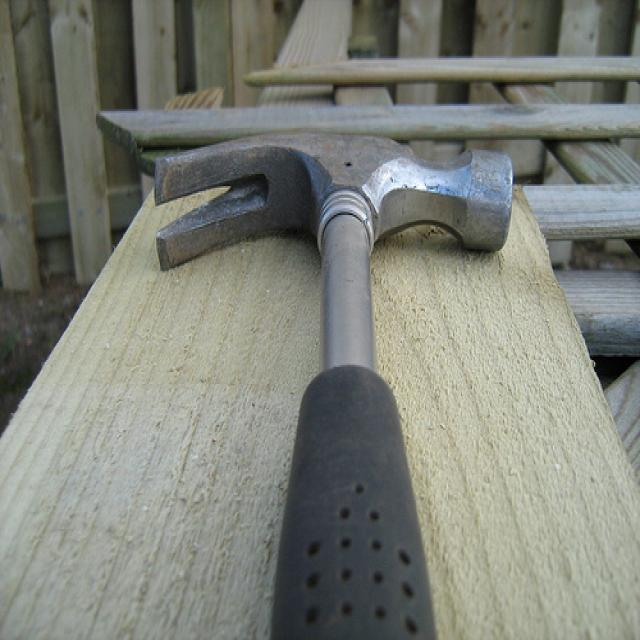hammer: (134, 123, 526, 640)
